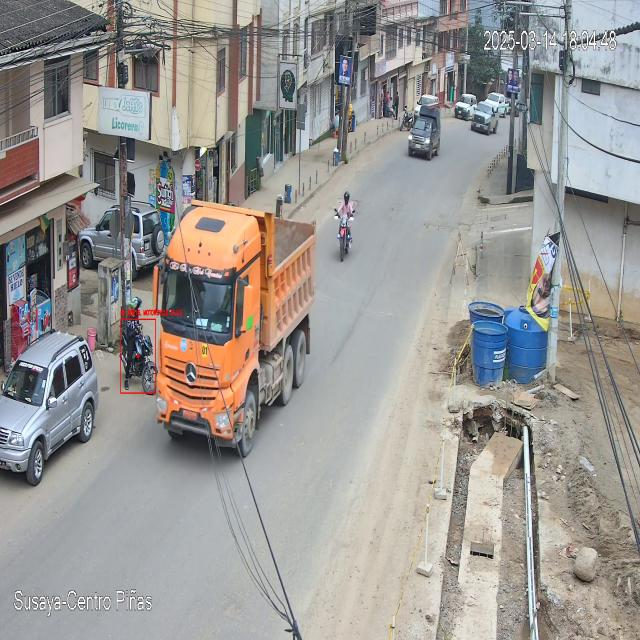MOTORCYCLE: (335, 207, 356, 262)
SUV: (1, 333, 100, 486)
TRUCK: (154, 202, 316, 458)
